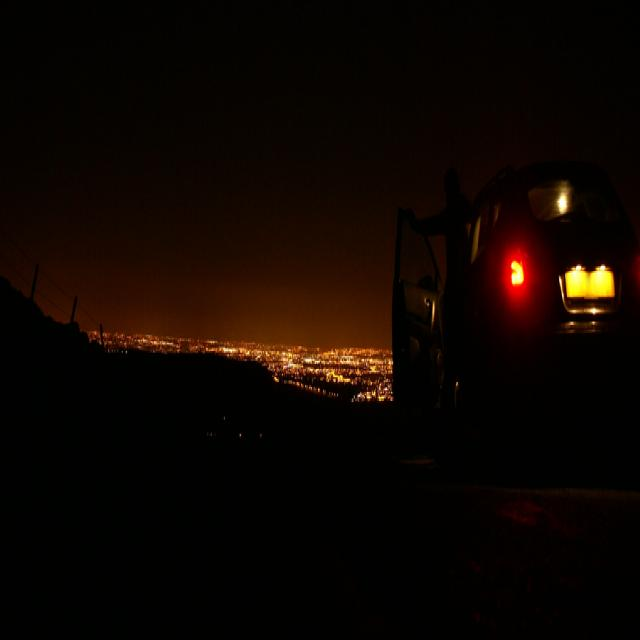Car: (387, 156, 640, 496)
